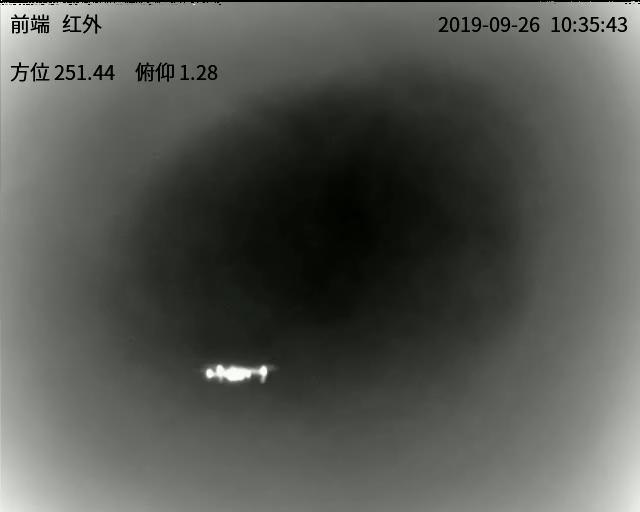uav: (203, 359, 274, 388)
